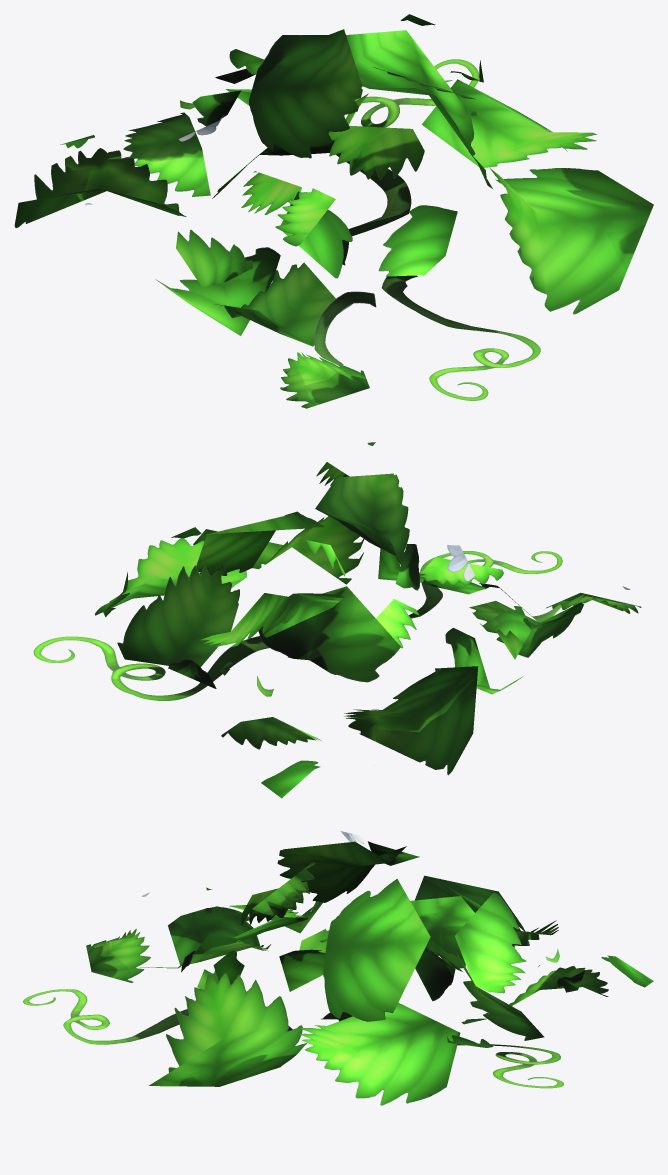
The model's file is Fllower_01.fbx.
3 renders of one model, top to bottom at view 1: azimuth 30°, elevation 25°; view 2: azimuth 150°, elevation 25°; view 3: azimuth 270°, elevation 25°, orthographic. The views are drawn at different scales.
Visible parts, largest first — view 1: Strawberry09; view 2: Strawberry09; view 3: Strawberry09.
Part boxes in pixels (left/top/right/bottom): Strawberry09: left=14, top=14, right=653, bottom=408; Strawberry09: left=33, top=442, right=641, bottom=798; Strawberry09: left=23, top=831, right=653, bottom=1105.
Size of the model in its own units: 7.23 by 3.13 by 8.63.
